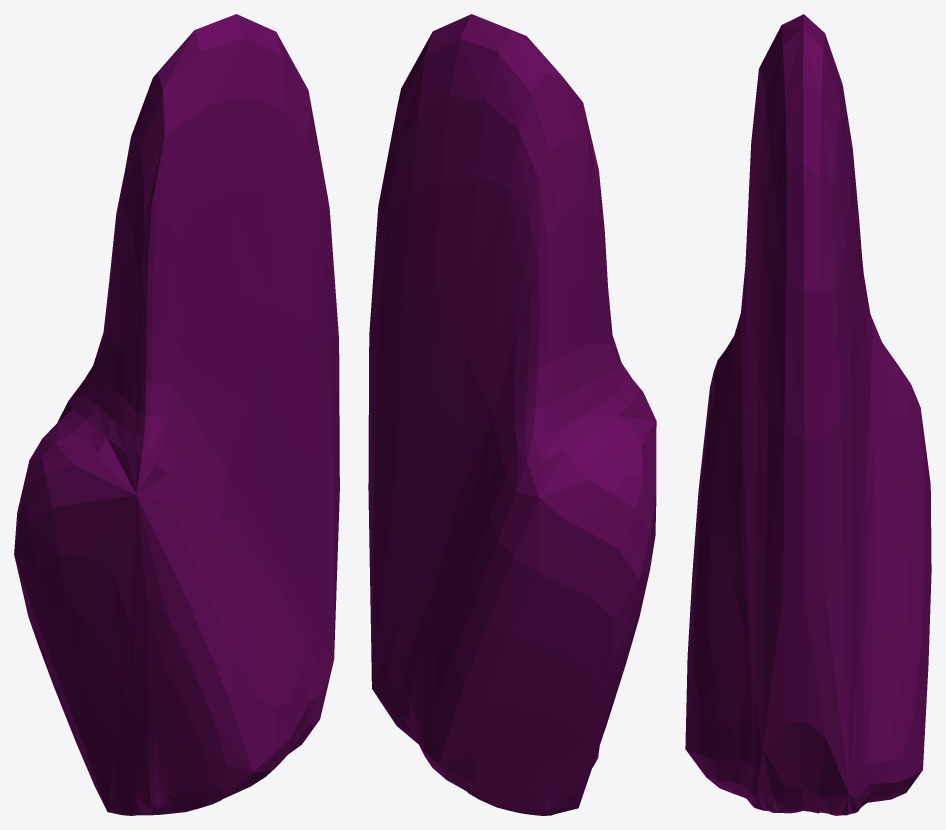
3 views of the same model, side by side, from view 1: azimuth 30°, elevation 25°; view 2: azimuth 150°, elevation 25°; view 3: azimuth 270°, elevation 25° (orthographic). The views are drawn at different scales.
Visible parts, largest first — view 1: 284_Cube.1162; view 2: 284_Cube.1162; view 3: 284_Cube.1162.
Boxes of the visible parts, left/top/right/bottom form: 284_Cube.1162: left=14, top=14, right=339, bottom=815; 284_Cube.1162: left=368, top=14, right=656, bottom=815; 284_Cube.1162: left=685, top=14, right=931, bottom=815.
Size of the model in its own units: 4.72 by 11.85 by 3.25.
